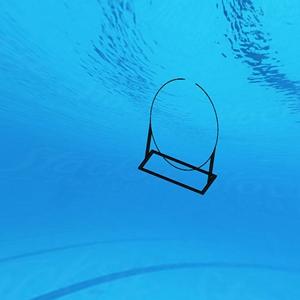circle: (136, 70, 227, 200)
